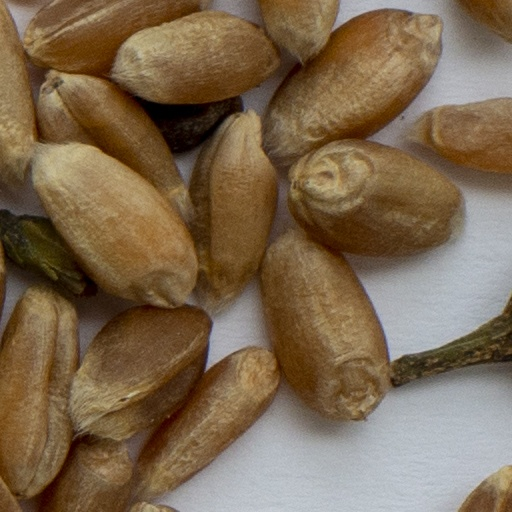Peel-poly: (390, 287, 511, 384), (0, 211, 93, 297)
Wheat-grain-poly: (38, 73, 186, 222), (112, 11, 278, 105), (26, 0, 213, 71), (0, 0, 35, 193), (260, 0, 336, 61)
